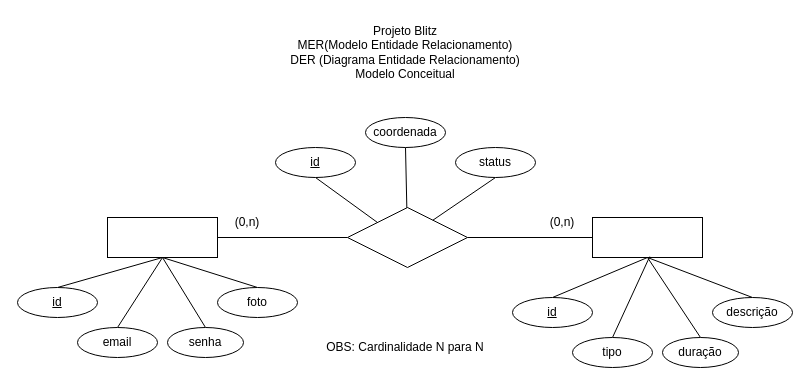
Image size: 810x385. Some labels were removed from this diagram. Each missing label, with the box of its shape:
Alertas: (592, 216, 702, 258)
localizações: (346, 206, 468, 268)
Usuários: (106, 216, 218, 258)
